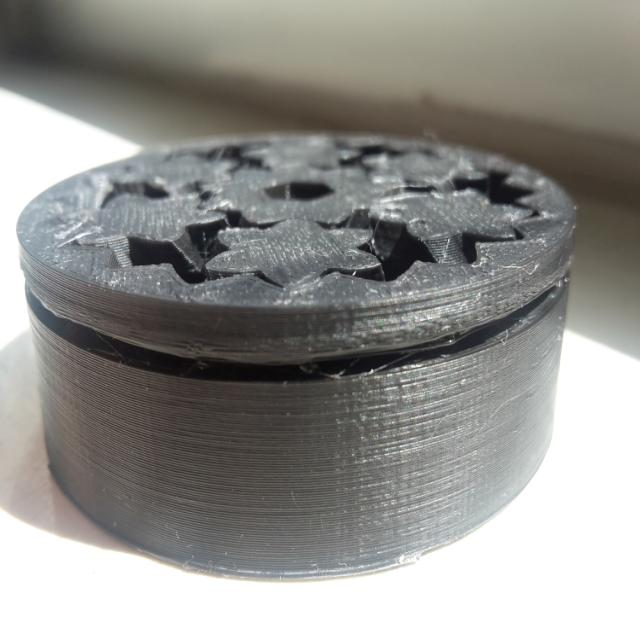Warping: (227, 343, 437, 394), (134, 338, 222, 389), (435, 317, 516, 363), (57, 328, 131, 363)
